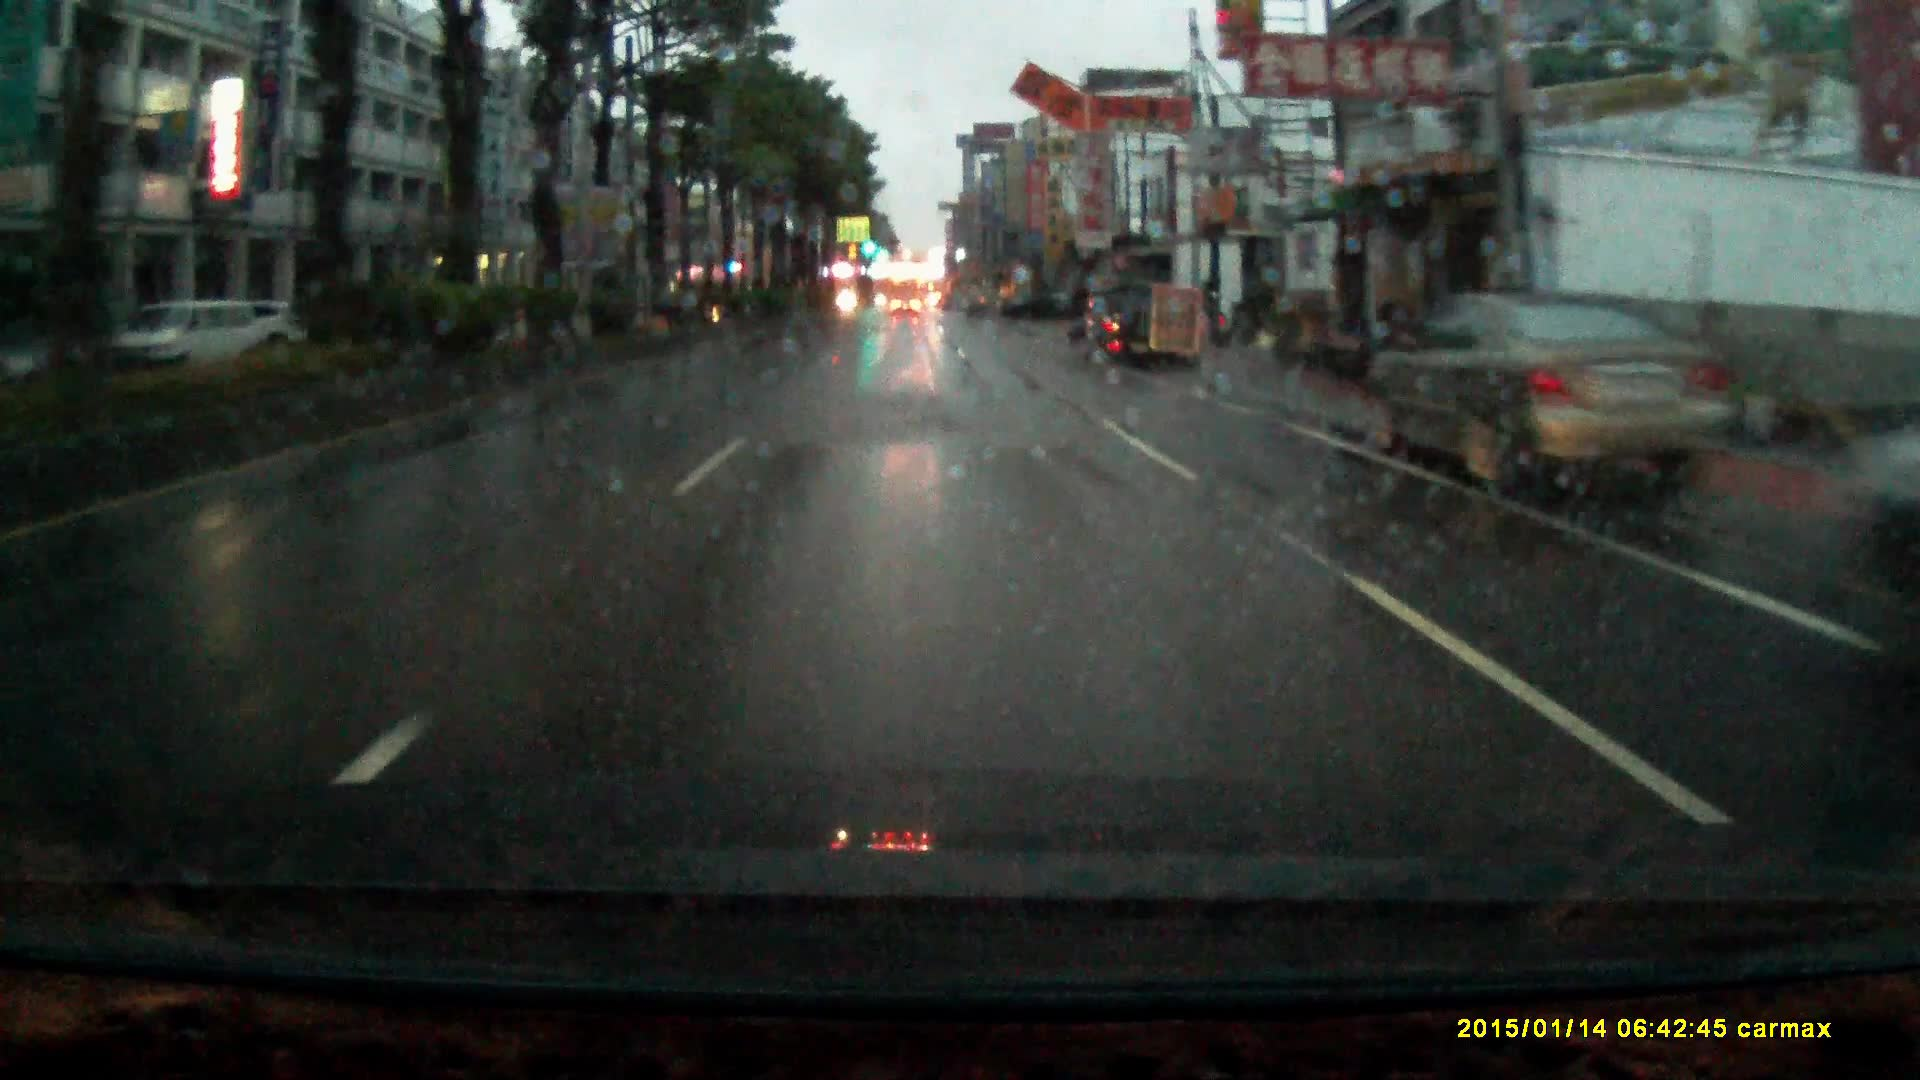vehicle: (1364, 281, 1756, 496), (1073, 273, 1185, 369), (113, 301, 268, 371), (16, 310, 125, 375), (891, 291, 920, 314)
